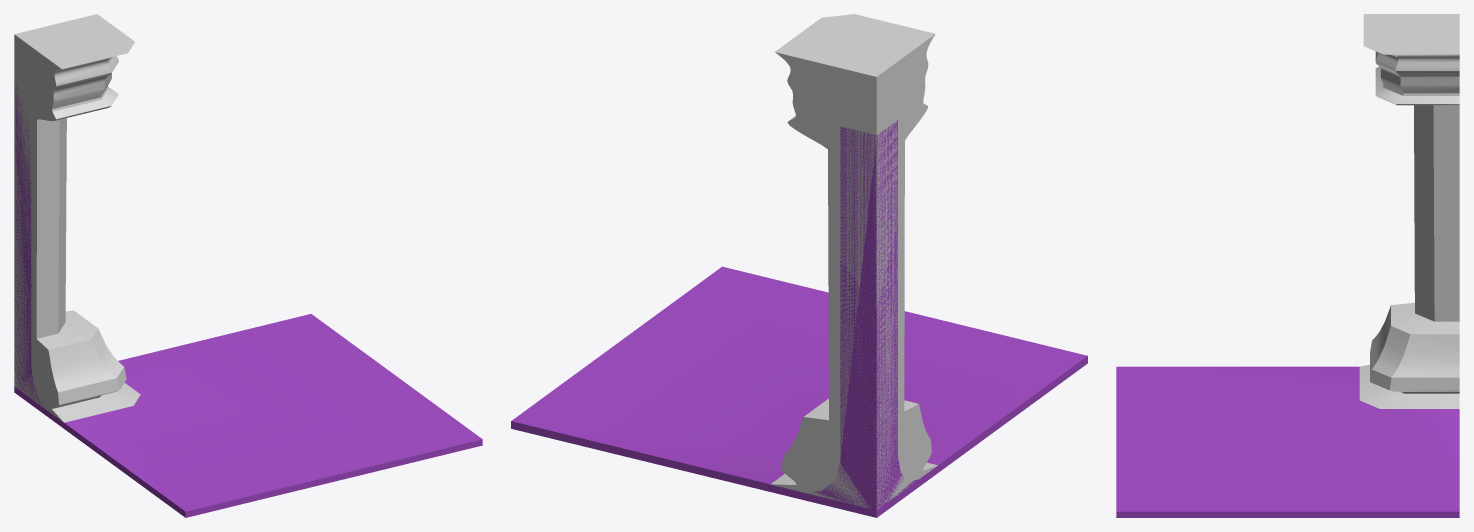
Rendered from Tileset_Piece_127.fbx.
3 views of the same model, side by side, from view 1: azimuth 30°, elevation 25°; view 2: azimuth 150°, elevation 25°; view 3: azimuth 270°, elevation 25° (orthographic). The views are drawn at different scales.
Visible parts, largest first — view 1: Tileset_Piece_127; view 2: Tileset_Piece_127; view 3: Tileset_Piece_127.
Part boxes in pixels (bbox=[...]): Tileset_Piece_127: bbox=[14, 14, 482, 517]; Tileset_Piece_127: bbox=[511, 14, 1087, 517]; Tileset_Piece_127: bbox=[1116, 14, 1459, 517].
Bounding box in the file's own units: 100 × 115 × 100.
